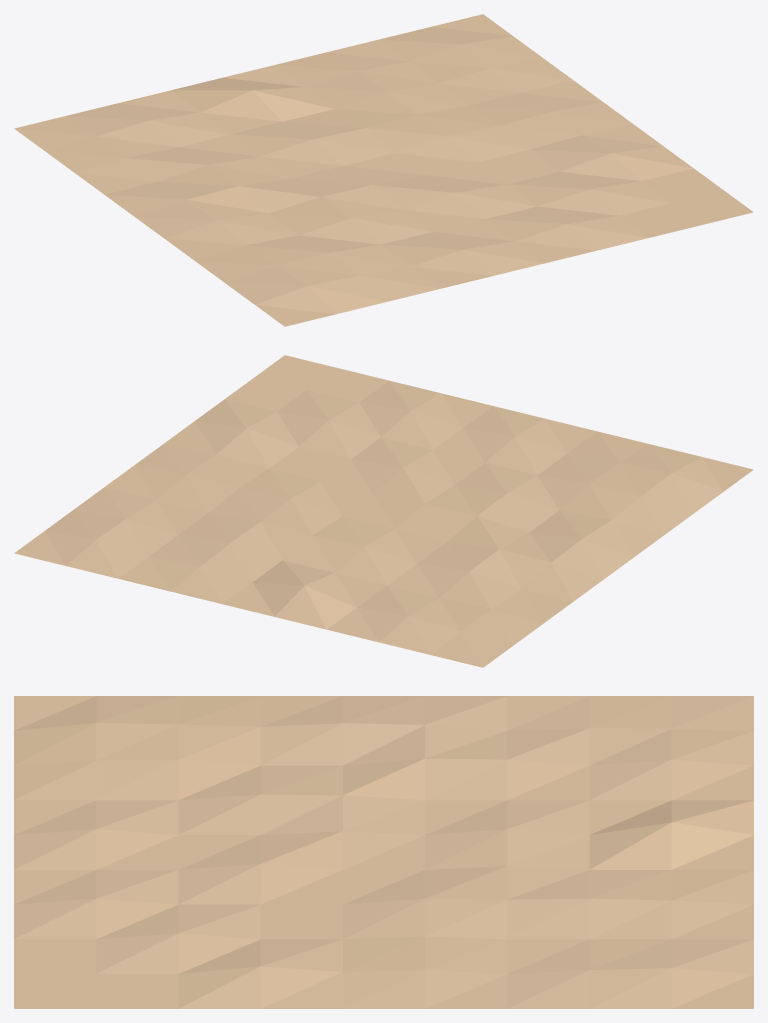
Rendered from desertTerrain.fbx.
3 renders of one model, top to bottom at view 1: azimuth 30°, elevation 25°; view 2: azimuth 150°, elevation 25°; view 3: azimuth 270°, elevation 25°, orthographic. The views are drawn at different scales.
Visible parts, largest first — view 1: terrainTriangle; view 2: terrainTriangle; view 3: terrainTriangle.
Boxes of the visible parts, <box> form: terrainTriangle: <box>14,14,753,326</box>; terrainTriangle: <box>14,355,753,667</box>; terrainTriangle: <box>14,696,753,1008</box>.
Size of the model in its own units: 387 by 7.34 by 387.
